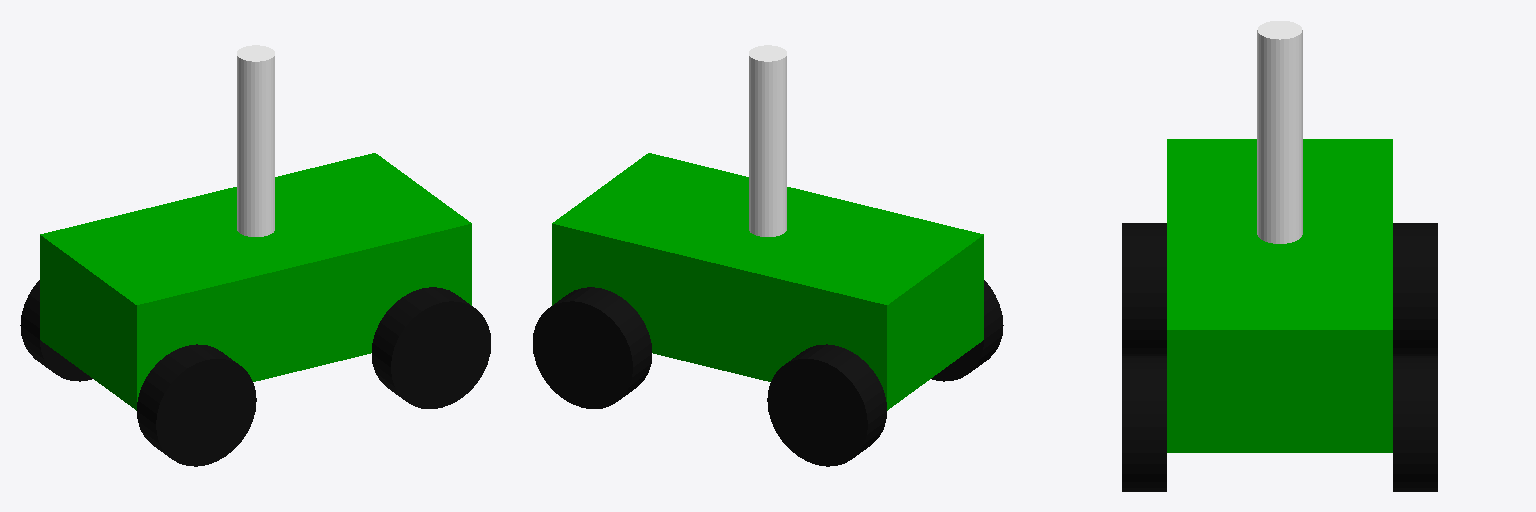
URDF robot description (my_robo):
<?xml version="1.0"?>
<robot name="my_robo">

  <material name="grey"><color rgba="0.7 0.7 0.7 1"/></material>
  <material name="green"><color rgba="0 0.7 0 1"/></material>
  <material name="white"><color rgba="1 1 1 1"/></material>
  <material name="black"><color rgba="0.1 0.1 0.1 1"/></material>

  <link name="base_link">
    <visual>
      <geometry>
        <box size="1.0 0.5 0.3"/>
      </geometry>
      <origin xyz="0 0 0.15" rpy="0 0 0"/>
      <material name="green"/>
       
    </visual>
    <collision>
      <geometry>
        <box size="1.0 0.5 0.3"/>
      </geometry>
      <origin xyz="0 0 0" rpy="0 0 0"/>
    </collision>
    <inertial>
      <origin xyz="0 0 0" rpy="0 0 0"/>
      <mass value="5.0"/>
      <inertia ixx="0.4541" ixy="0.0" ixz="0.0" iyy="0.1875" iyz="0.0" izz="0.5667"/>
    </inertial>
  </link>

  <link name="front_left_wheel">
    <visual>
      <geometry>
        <cylinder radius="0.15" length="0.1"/>
      </geometry>
      <origin xyz="0 0 0" rpy="1.5708 0 0"/>
      <material name="black"/>
    </visual>
    <collision>
      <geometry>
        <cylinder radius="0.15" length="0.1"/>
      </geometry>
      <origin xyz="0 0 0" rpy="1.5708 0 0"/>
    </collision>
    
    <inertial>
      <origin xyz="0 0 0" rpy="1.5708 0 0"/>
      <mass value="1.0"/>
      <inertia ixx="0.00646" ixy="0.0" ixz="0.0" iyy="0.01125" iyz="0.0" izz="0.00646"/>
    </inertial>
  </link>

  <joint name="front_left_wheel_joint" type="continuous">
    <parent link="base_link"/>
    <child link="front_left_wheel"/>
    <origin xyz="0.35 0.3 0" rpy="0 0 0"/>
    <axis xyz="0 1 0"/>
  </joint>

  <link name="front_right_wheel">
    <visual>
      <geometry>
        <cylinder radius="0.15" length="0.1"/>
      </geometry>
      <origin xyz="0 0 0" rpy="1.5708 0 0"/>
      <material name="black"/>
    </visual>
    <collision>
      <geometry>
        <cylinder radius="0.15" length="0.1"/>
      </geometry>
      <origin xyz="0 0 0" rpy="1.5708 0 0"/>
    </collision>
    
    <inertial>
      <origin xyz="0 0 0" rpy="1.5708 0 0"/>
      <mass value="1.0"/>
      <inertia ixx="0.00646" ixy="0.0" ixz="0.0" iyy="0.01125" iyz="0.0" izz="0.00646"/>
    </inertial>
  </link>

  <joint name="front_right_wheel_joint" type="continuous">
    <parent link="base_link"/>
    <child link="front_right_wheel"/>
    <origin xyz="-0.35 0.3 0" rpy="0 0 0"/>
    <axis xyz="0 1 0"/>
  </joint>

  <link name="rear_left_wheel">
    <visual>
      <geometry>
        <cylinder radius="0.15" length="0.1"/>
      </geometry>
      <origin xyz="0 0 0" rpy="1.5708 0 0"/>
      <material name="black"/>
    </visual>
    <collision>
      <geometry>
        <cylinder radius="0.15" length="0.1"/>
      </geometry>
      <origin xyz="0 0 0" rpy="1.5708 0 0"/>
    </collision>
    
    <inertial>
      <origin xyz="0 0 0" rpy="1.5708 0 0"/>
      <mass value="1.0"/>
      <inertia ixx="0.00646" ixy="0.0" ixz="0.0" iyy="0.01125" iyz="0.0" izz="0.00646"/>
    </inertial>
  </link>

  <joint name="rear_left_wheel_joint" type="continuous">
    <parent link="base_link"/>
    <child link="rear_left_wheel"/>
    <origin xyz="0.35 -0.3 0" rpy="0 0 0"/>
    <axis xyz="0 1 0"/>
  </joint>

  <link name="rear_right_wheel">
    <visual>
      <geometry>
        <cylinder radius="0.15" length="0.1"/>
      </geometry>
      <origin xyz="0 0 0" rpy="1.5708 0 0"/>
      <material name="black"/>
    </visual>
    <collision>
      <geometry>
        <cylinder radius="0.15" length="0.1"/>
      </geometry>
      <origin xyz="0 0 0" rpy="1.5708 0 0"/>
    </collision>
    
    <inertial>
      <origin xyz="0 0 0" rpy="1.5708 0 0"/>
      <mass value="1.0"/>
      <inertia ixx="0.00646" ixy="0.0" ixz="0.0" iyy="0.01125" iyz="0.0" izz="0.00646"/>
    </inertial>
  </link>

  <joint name="rear_right_wheel_joint" type="continuous">
    <parent link="base_link"/>
    <child link="rear_right_wheel"/>
    <origin xyz="-0.35 -0.3 0" rpy="0 0 0"/>
    <axis xyz="0 1 0"/>
  </joint>
  
  <link name="arm_base">
  	<visual>
  		<geometry>
  			<cylinder radius="0.05" length="0.5"/>
  		</geometry>
  		<origin xyz="0 0 0" rpy="0 0 0"/> 
  		<material name="white"/>
  	</visual>
  	<collision>
      <geometry>
        <cylinder radius="0.05" length="0.5"/>
      </geometry>
      <origin xyz="0 0 0" rpy="0 0 0"/>
    </collision>
    <inertial>
      <origin xyz="0 0 0" rpy="0 0 0"/>
      <mass value="0.5"/>
      <inertia ixx="0.01073" ixy="0.0" ixz="0.0" iyy="0.000625" iyz="0.0" izz="0.01073"/>
    </inertial>
  </link>
  <joint name="arm_to_base" type="fixed">
  <parent link="base_link"/>
  <child link="arm_base"/>
  <origin xyz="0 0 0.55" rpy="0 0 0"/>
  </joint>
  
 <gazebo>
 <plugin
    filename="libignition-gazebo-diff-drive-system.so"
    name="ignition::gazebo::systems::DiffDrive">
    <left_joint>rear_left_wheel_joint</left_joint>
    <right_joint>rear_right_wheel_joint</right_joint>
    <wheel_separation>0.5</wheel_separation>
    <wheel_radius>0.15</wheel_radius>
    <odom_publish_frequency>1</odom_publish_frequency>
    <odom_topic>/model/my_robo/odometry</odom_topic>
    <topic>/model/my_robo/cmd_vel</topic>
</plugin>
</gazebo>
</robot>

--- Facts derived from the render (not from the file) ---
The picture shows the robot from 3 angles, left to right: view 1: azimuth 30°, elevation 25°; view 2: azimuth 150°, elevation 25°; view 3: azimuth 270°, elevation 25°; orthographic projection.
Model my_robo with 6 links and 5 joints (4 continuous, 1 fixed), rooted at base_link, posed all joints at 0.
Links seen in each view (by area): view 1: base_link, rear_left_wheel, rear_right_wheel, arm_base, front_right_wheel; view 2: base_link, front_left_wheel, front_right_wheel, arm_base, rear_right_wheel; view 3: base_link, arm_base, front_left_wheel, rear_left_wheel, front_right_wheel, rear_right_wheel.
Boxes of the visible links, left/top/right/bottom form: base_link: left=40, top=153, right=471, bottom=410; rear_left_wheel: left=372, top=287, right=490, bottom=408; rear_right_wheel: left=137, top=344, right=256, bottom=466; arm_base: left=237, top=45, right=274, bottom=236; front_right_wheel: left=20, top=280, right=92, bottom=381; base_link: left=552, top=153, right=983, bottom=410; front_left_wheel: left=533, top=287, right=651, bottom=408; front_right_wheel: left=767, top=344, right=886, bottom=466; arm_base: left=749, top=45, right=786, bottom=236; rear_right_wheel: left=931, top=280, right=1003, bottom=381; base_link: left=1167, top=139, right=1392, bottom=452; arm_base: left=1257, top=21, right=1302, bottom=243; front_left_wheel: left=1393, top=356, right=1437, bottom=491; rear_left_wheel: left=1122, top=356, right=1166, bottom=491; front_right_wheel: left=1393, top=223, right=1437, bottom=355; rear_right_wheel: left=1122, top=223, right=1166, bottom=355.
Bounding box of the posed robot: 1 × 0.7 × 0.95 m (x, y, z).
Geometry: primitives only (box / cylinder / sphere), no mesh files.
